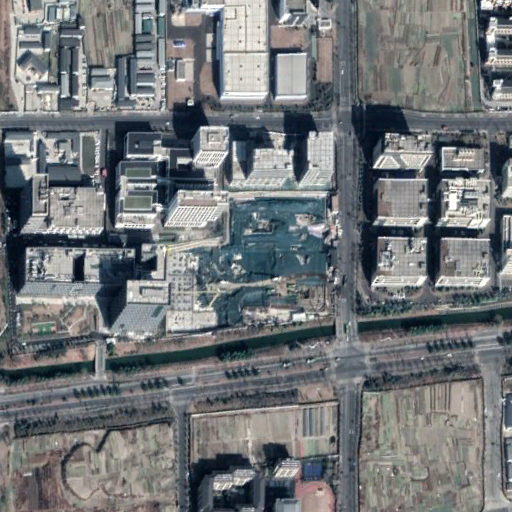cw: (193, 192, 333, 333)
